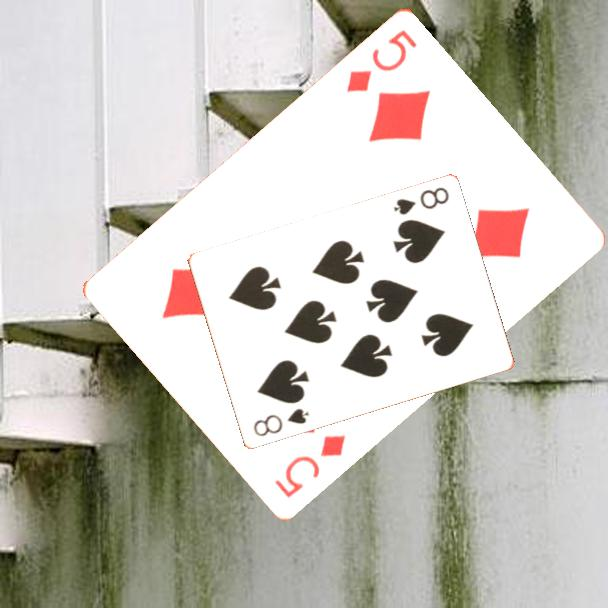d05: (271, 430, 349, 501), (342, 25, 420, 95)
s08: (250, 405, 312, 440), (390, 184, 452, 218)
